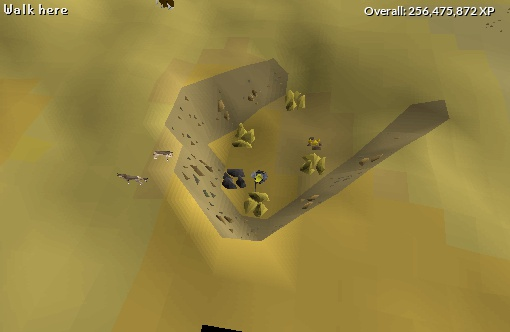depleted: (220, 165, 248, 192)
gold: (232, 122, 260, 153), (300, 151, 333, 177), (286, 88, 308, 114)
